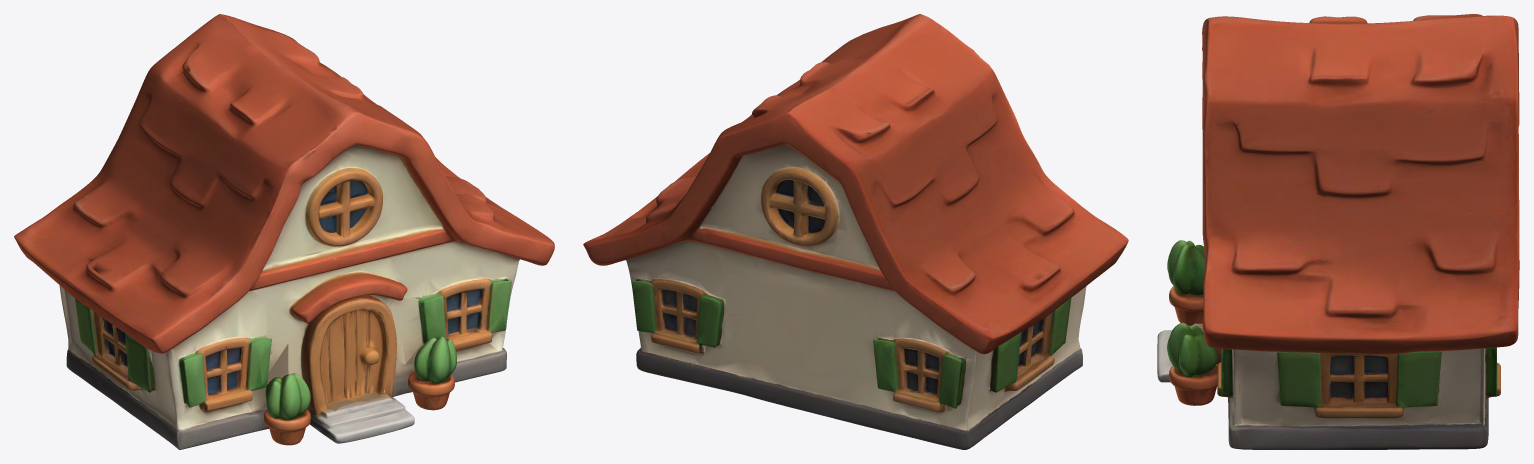
The model's file is AH_ENV_CottageCream_Game_v01.glb.
The picture shows the model from 3 angles, left to right: view 1: azimuth 30°, elevation 25°; view 2: azimuth 150°, elevation 25°; view 3: azimuth 270°, elevation 25°; orthographic projection. The views are drawn at different scales.
Visible parts, largest first — view 1: tripo_node_d91ff913-01dc-4906-bd3c-b7cf97fcd64f; view 2: tripo_node_d91ff913-01dc-4906-bd3c-b7cf97fcd64f; view 3: tripo_node_d91ff913-01dc-4906-bd3c-b7cf97fcd64f.
Boxes of the visible parts, x1,y1,x2,y2 form: tripo_node_d91ff913-01dc-4906-bd3c-b7cf97fcd64f: [14, 14, 554, 449]; tripo_node_d91ff913-01dc-4906-bd3c-b7cf97fcd64f: [583, 14, 1128, 449]; tripo_node_d91ff913-01dc-4906-bd3c-b7cf97fcd64f: [1157, 14, 1519, 449].
Bounding box in the file's own units: 0.9795 × 0.7046 × 0.6652.
1 material, 1 textured.
